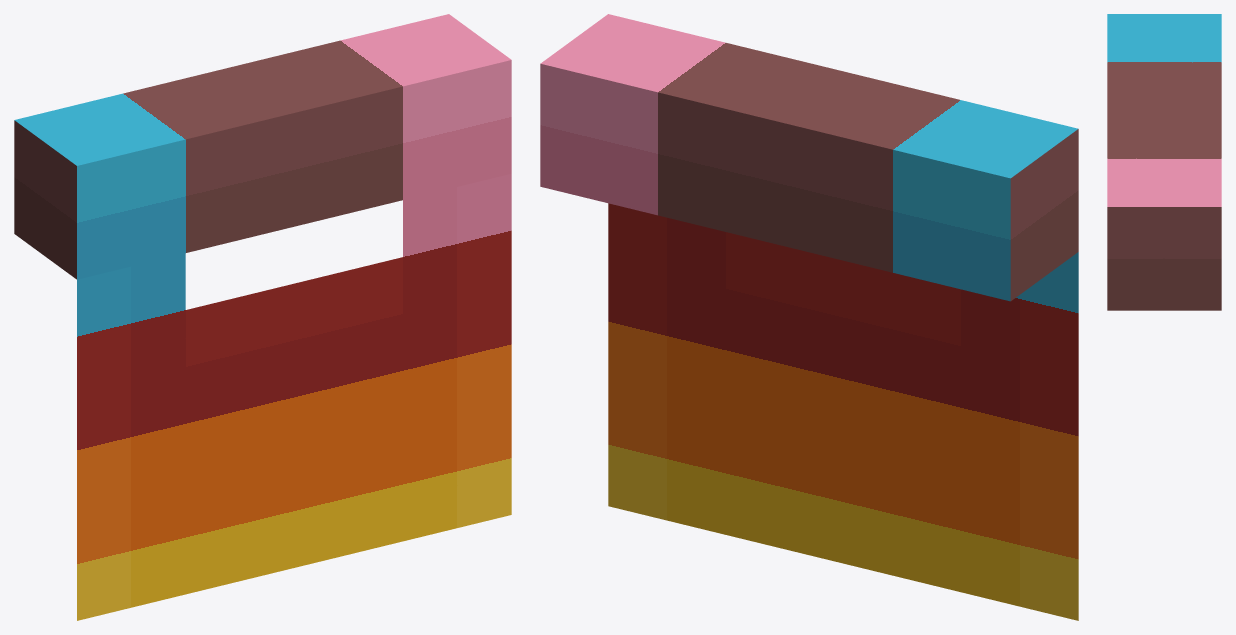
The model's file is _Rainbow Banner Hanging.glb.
3 views of the same model, side by side, from view 1: azimuth 30°, elevation 25°; view 2: azimuth 150°, elevation 25°; view 3: azimuth 270°, elevation 25° (orthographic). The views are drawn at different scales.
Visible parts, largest first — view 1: cube; view 2: cube; view 3: cube.
Part boxes in pixels (left/top/right/bottom): cube: left=14, top=14, right=511, bottom=620; cube: left=540, top=14, right=1078, bottom=620; cube: left=1107, top=14, right=1221, bottom=310.
Bounding box in the file's own units: 1 × 1 × 0.25.
Materials: 1 (1 with a texture image).
